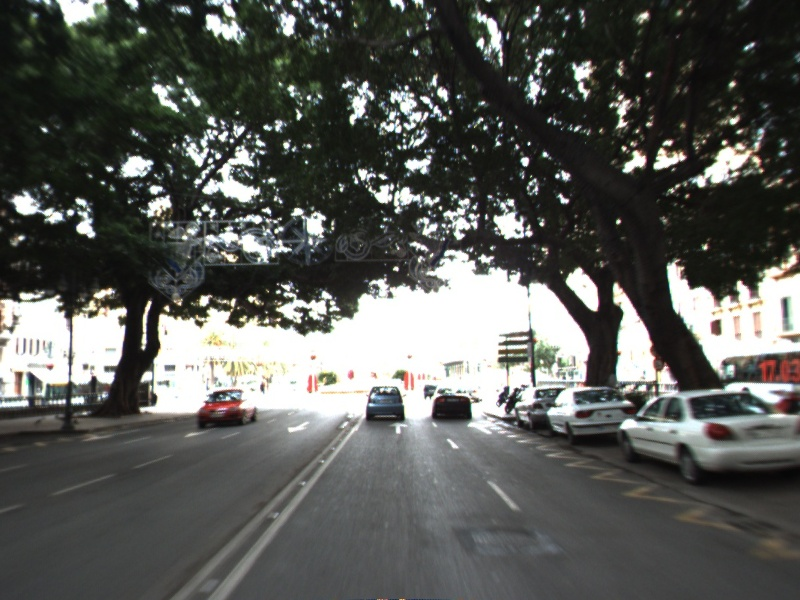STRAIGHT: (465, 420, 495, 436), (386, 420, 410, 436)
